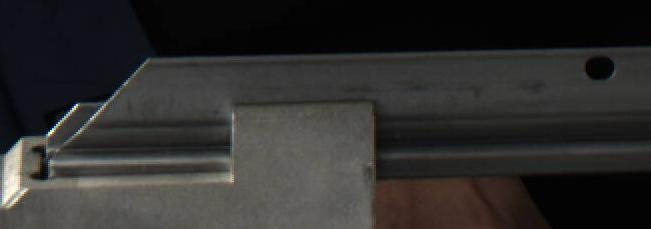cut: (37, 46, 206, 180)
holes: (583, 54, 618, 81)
